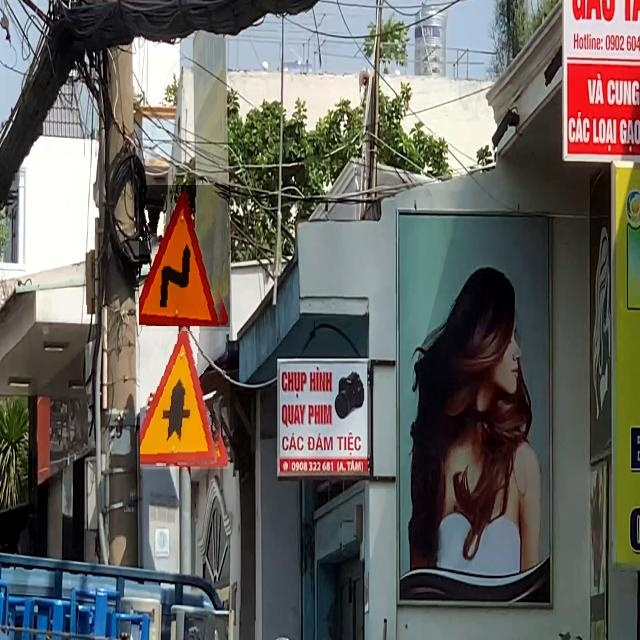bien_nguy_hiem: (139, 185, 230, 328), (140, 332, 230, 469)
